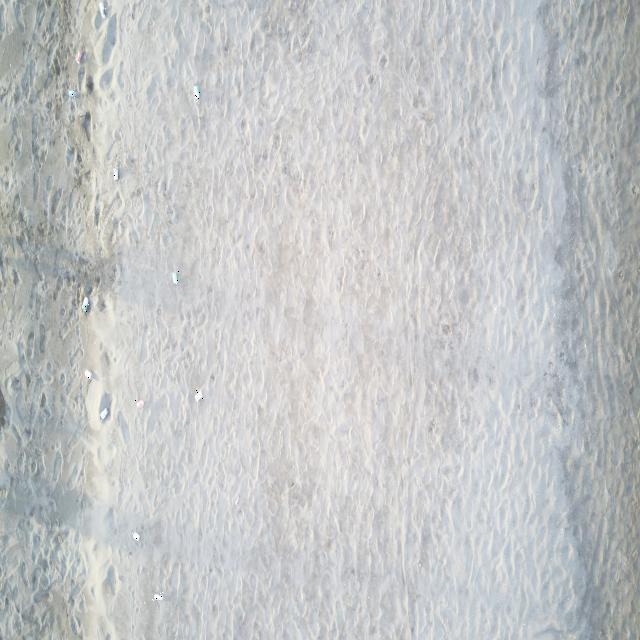tin-and-aluminum-cans: (99, 407, 110, 421), (81, 296, 90, 313), (112, 162, 120, 180), (99, 0, 106, 20), (152, 591, 164, 601), (75, 49, 83, 64), (171, 271, 179, 286), (194, 390, 203, 402), (194, 85, 200, 103), (132, 529, 140, 542), (84, 370, 94, 380), (135, 399, 145, 409), (68, 90, 77, 98)
